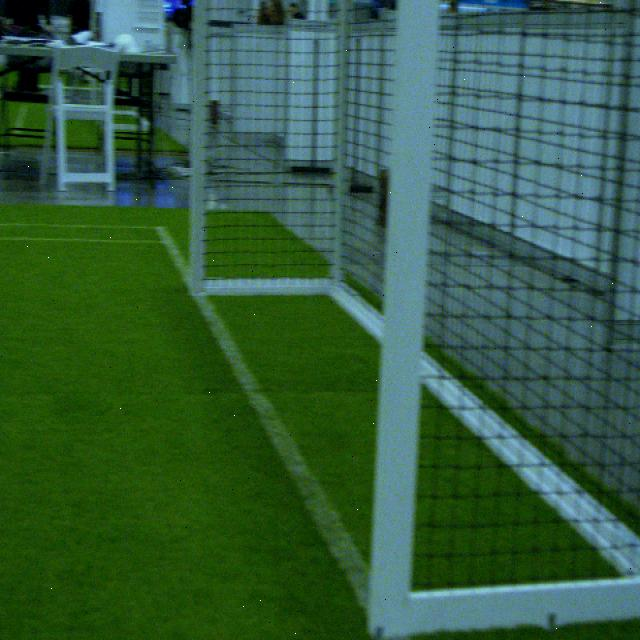goalpost: (367, 0, 436, 637), (189, 1, 208, 298)
